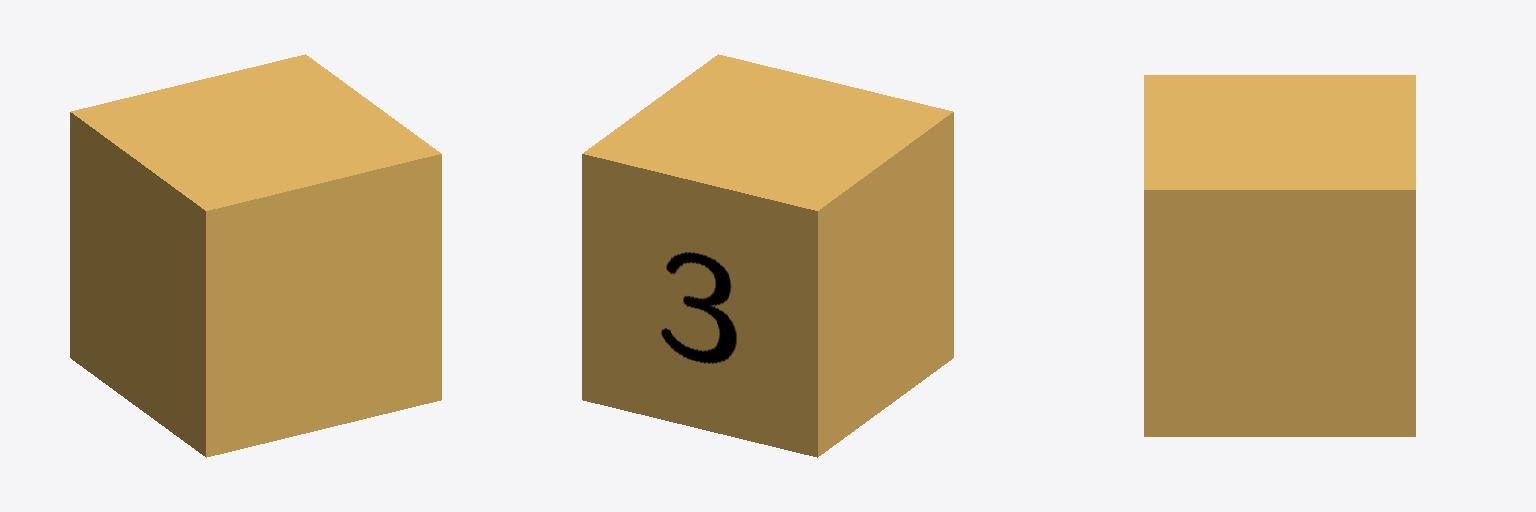
3 views of the same model, side by side, from view 1: azimuth 30°, elevation 25°; view 2: azimuth 150°, elevation 25°; view 3: azimuth 270°, elevation 25° (orthographic).
Parts seen in each view (by area): view 1: Cube; view 2: Cube; view 3: Cube.
Part boxes in pixels (left/top/right/bottom): Cube: left=70, top=54, right=441, bottom=457; Cube: left=582, top=54, right=953, bottom=457; Cube: left=1144, top=75, right=1415, bottom=436.
Size of the model in its own units: 6 by 6 by 6.
1 materials, 1 textured.